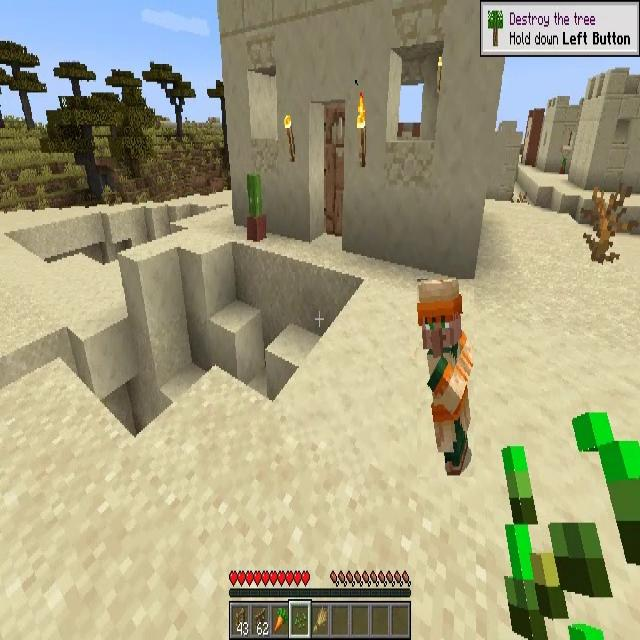people: (417, 280, 474, 478)
